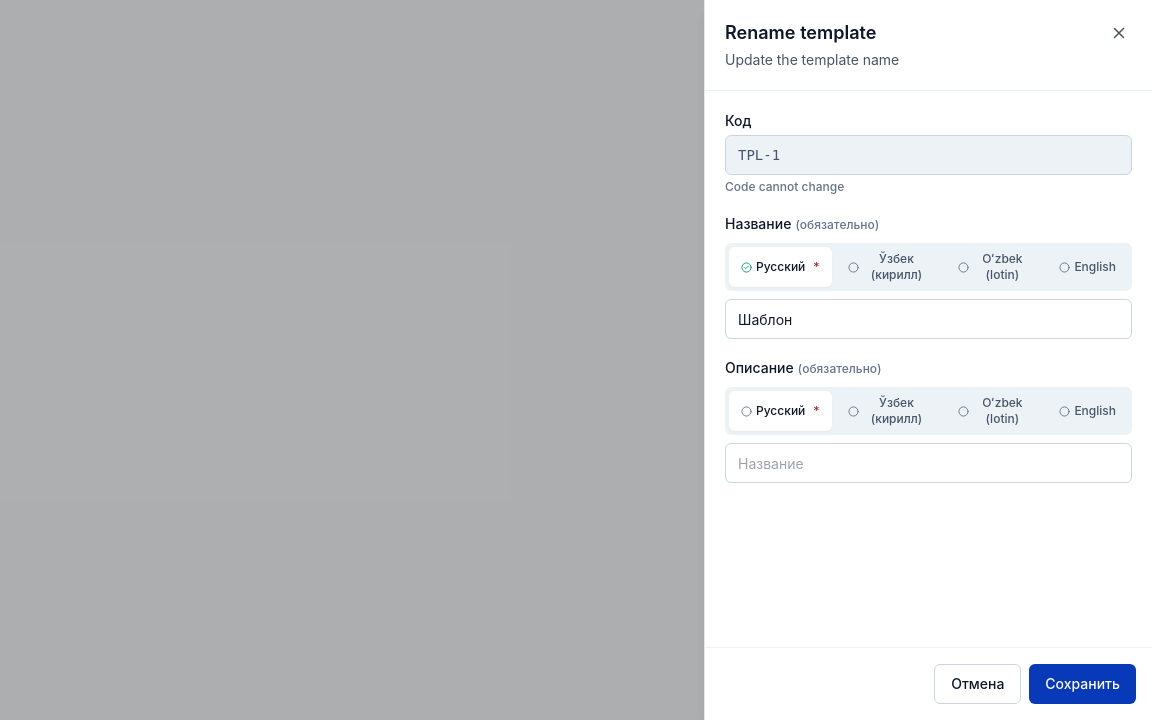
Test: <RenameTemplateDrawer /> (shared) › maps any other rejection to genericError
The image size is (1152, 720).
Click the button "Сохранить" at (1083, 684), box 1029,664 -> 1136,704
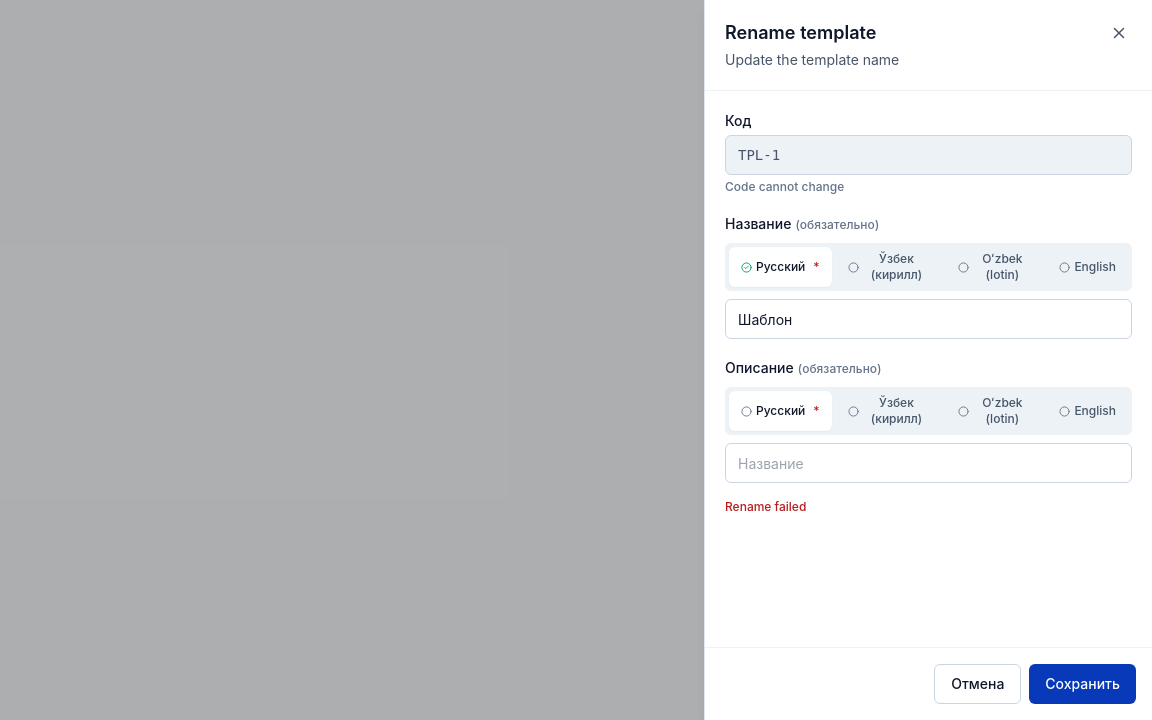
expect the message with test id "fake-rename-template-error" reads "Rename failed": met, box 725,499 -> 806,514
